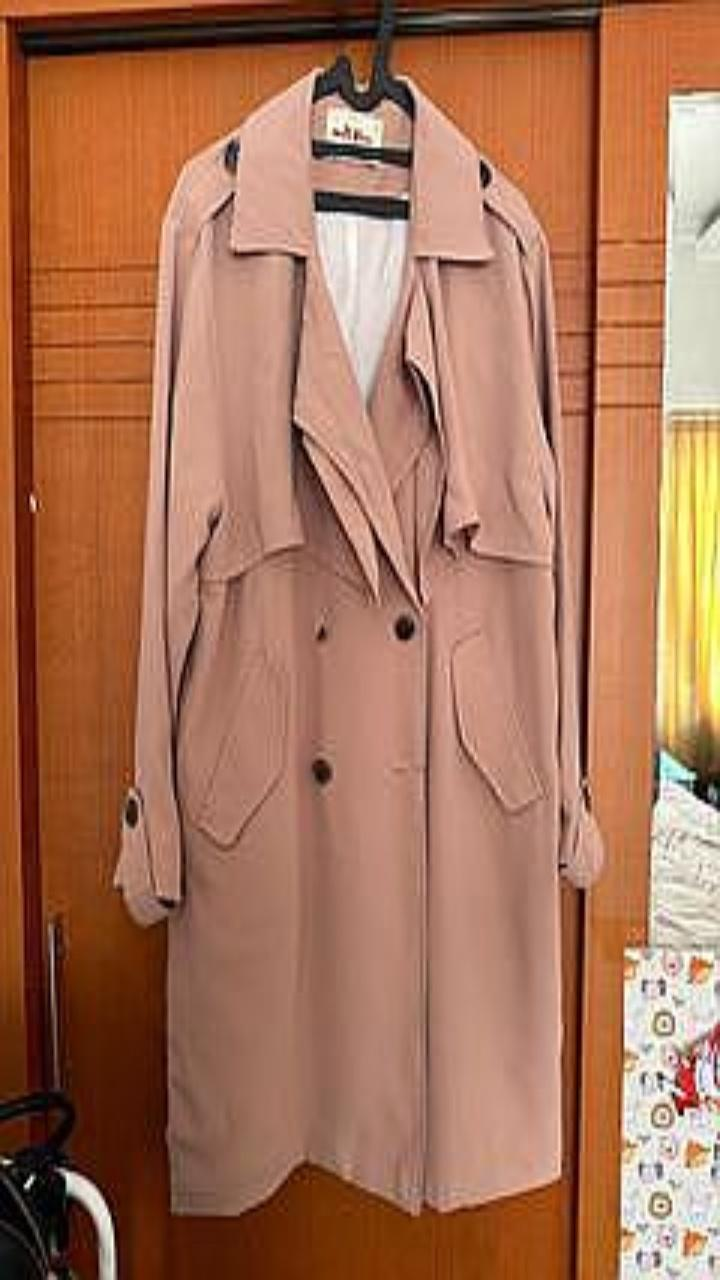Coat: (114, 67, 603, 1214)
